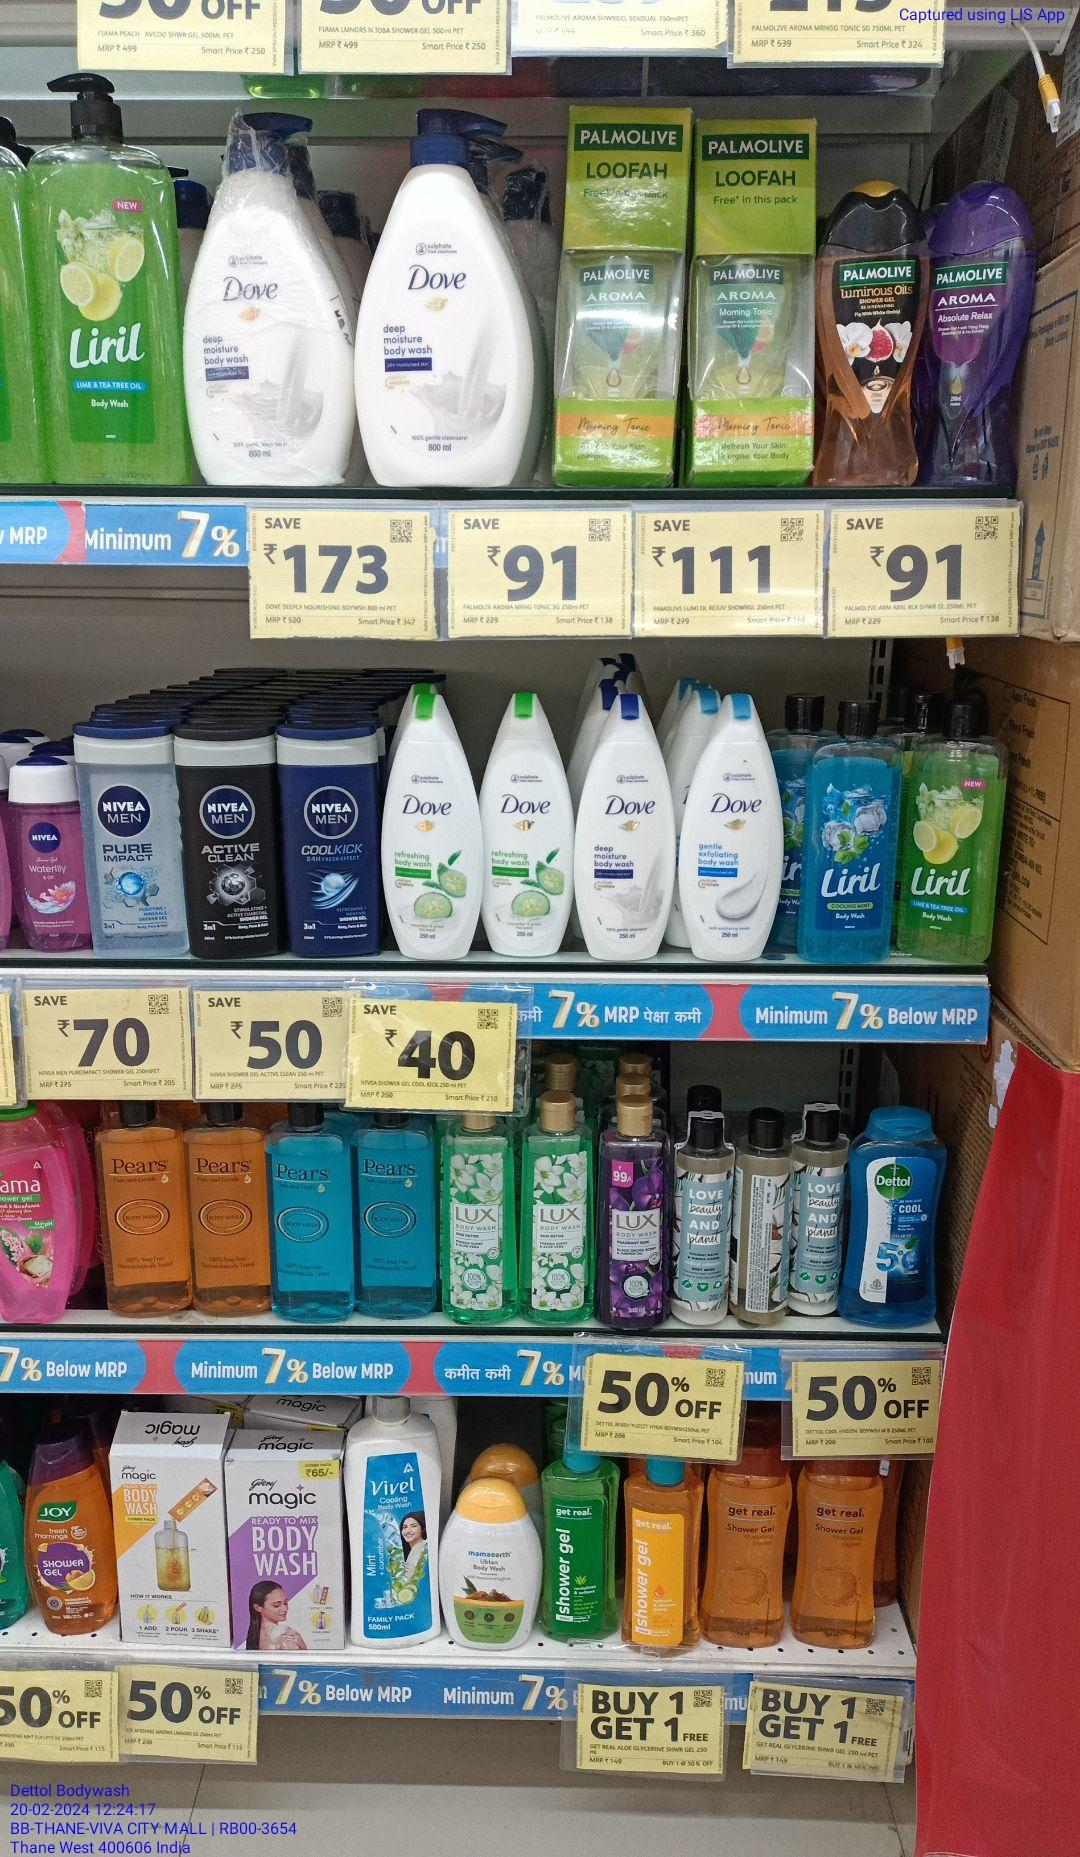Dettol_Bodywash_Cool: (841, 1110, 946, 1328)
Dove_Deep_Moisture_Body_Wash_250ML: (576, 690, 675, 963)
Dove_Gentle_Exfoliating_Body_Wash_250ML: (680, 691, 786, 963)
Dove_Refreshing_Body_Wash_250ML: (382, 690, 480, 959), (485, 688, 572, 954)
Fiama_Shower_Gel_Patchouli_and_Macadamia_250ML: (0, 1109, 75, 1321)
Get_Real_Shower_Gel_Moisturising_Glycerin_300ML: (796, 1457, 878, 1648), (705, 1459, 786, 1645)
Joy_Shower_Gel_Mandarin_and_Lemongrass_250ML: (24, 1428, 116, 1636)
Liril_Cooling_Mint_Body_Wash_250ML: (800, 698, 896, 965)
Liril_Lime_and_Tea_Tree_Oil_Body_Wash_250ML: (905, 695, 993, 963)
Lux_Black_Orchid_Scent_and_Juniper_Oil_Body_Wash_245ML: (594, 1085, 675, 1328)
Lux_Body_Wash_Skin_Detox_Freesia_Scent_and_Alove_Vera_245ML: (440, 1113, 517, 1322), (522, 1085, 589, 1325)
Nivea_Shower_Gel_Waterlily_and_Oil_250ML: (15, 760, 89, 950)
Palmolive_Aroma_Relax_250ML: (932, 176, 1038, 486)
Palmolive_Luminous_Oils_With_White_Orchid_Shower_Gel_250ML: (816, 181, 931, 493)
Pears_Pure_Glycerin_and_Mint_Extracts_Body_Wash_250ML: (271, 1101, 348, 1322), (352, 1110, 433, 1320)
